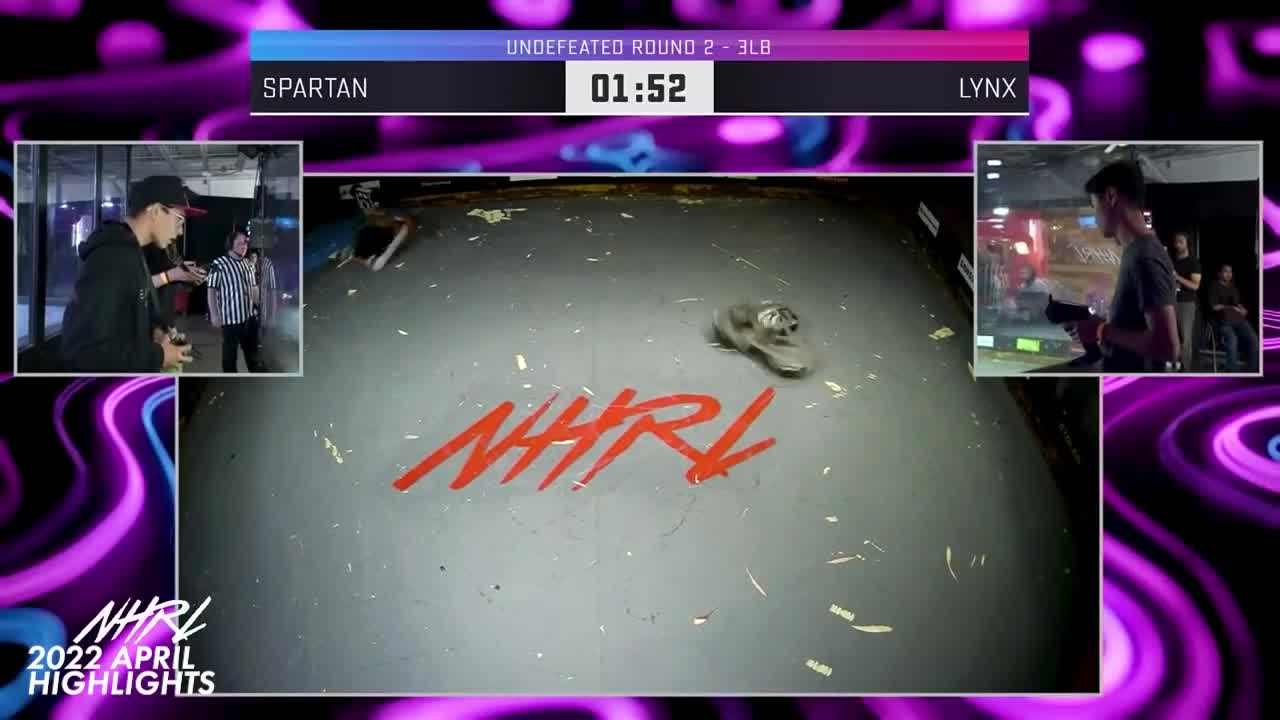combatbot: (710, 302, 813, 381), (347, 210, 415, 272)
debris: (926, 322, 961, 342)
